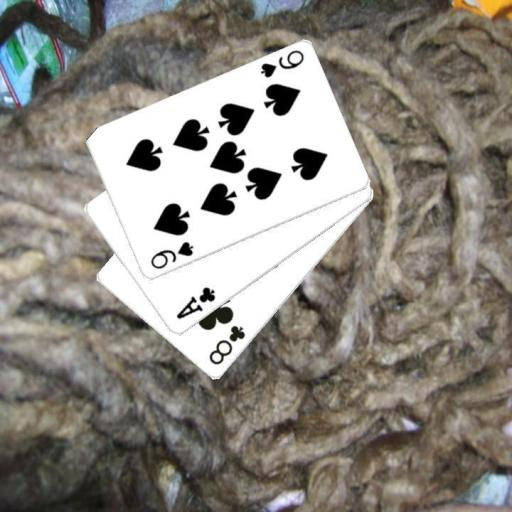card-corner: (206, 322, 248, 367), (173, 284, 217, 321), (147, 238, 196, 271), (257, 47, 306, 80)
